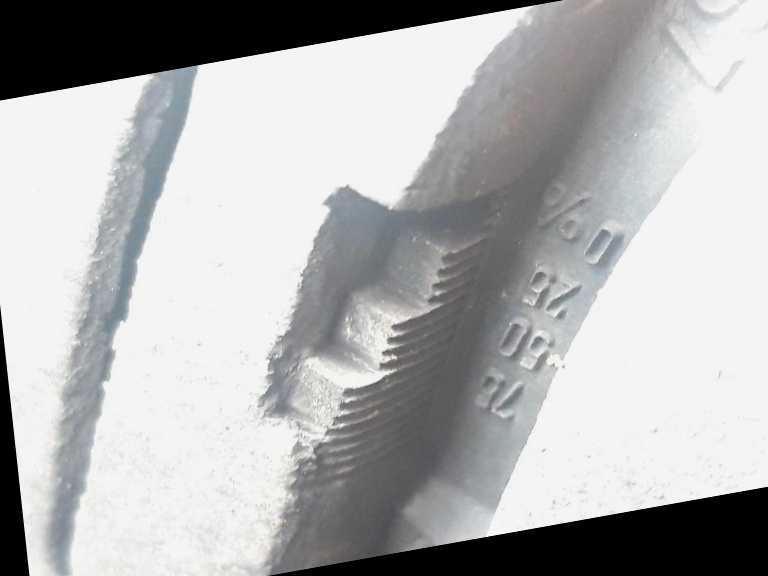temoin:80: (210, 136, 585, 518)
